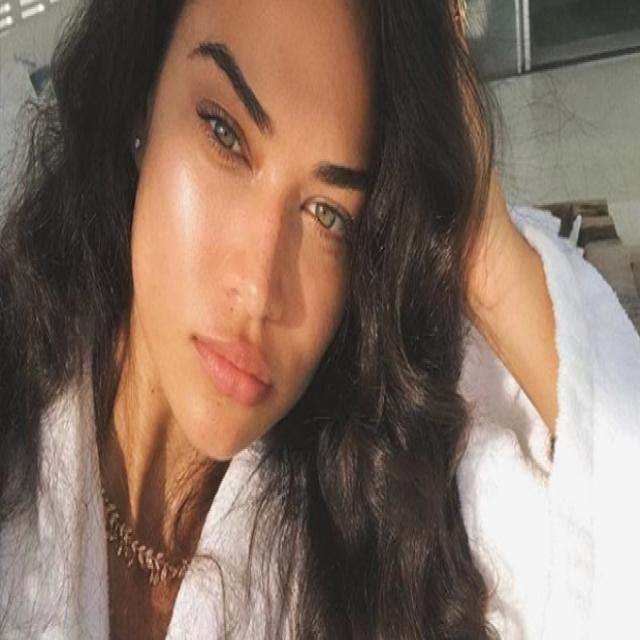Puffy Eyes - v3 Dark Circle: (187, 132, 250, 208), (296, 211, 352, 285)
